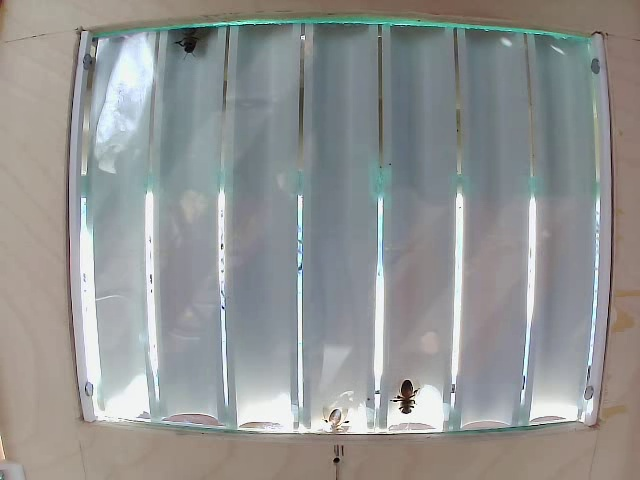bee: (167, 22, 217, 59), (389, 379, 427, 415)
